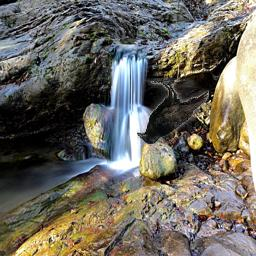Crow: (137, 78, 209, 144)
